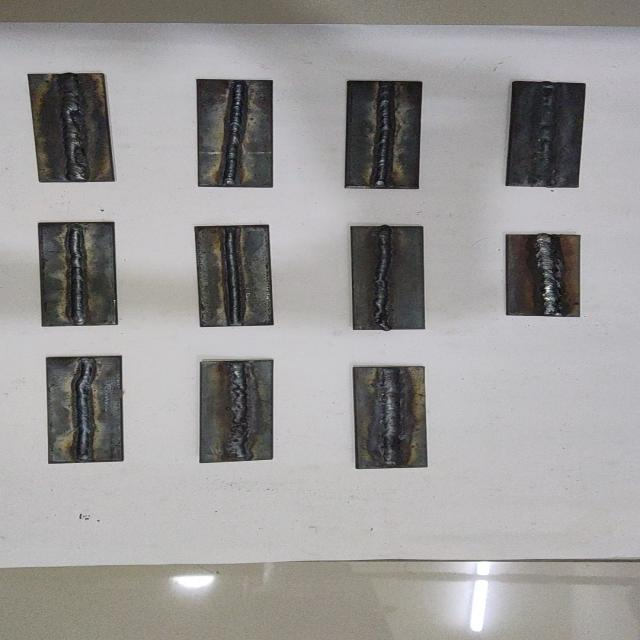Good Weld: (59, 75, 84, 181), (222, 82, 245, 186), (74, 358, 96, 461), (535, 84, 557, 186), (381, 368, 402, 467), (534, 236, 560, 314), (228, 362, 249, 458), (67, 224, 86, 324), (374, 226, 392, 328), (224, 228, 242, 326), (377, 83, 393, 187)
